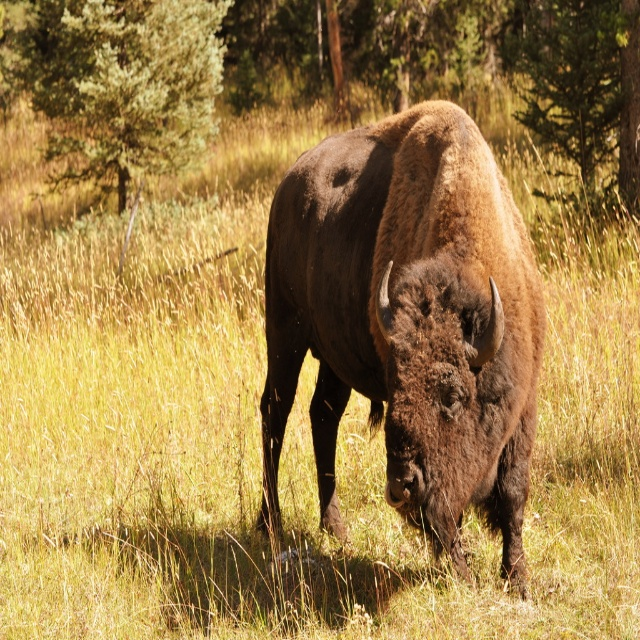Bull: (260, 96, 548, 603)
